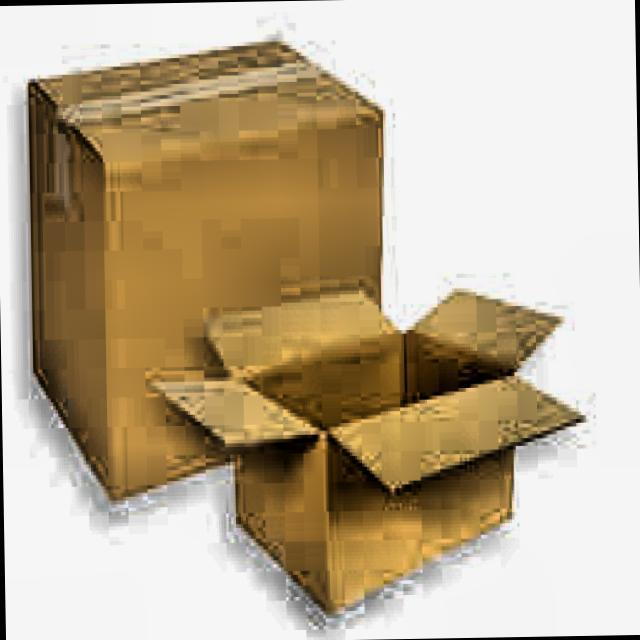cardboard: (27, 32, 394, 502)
